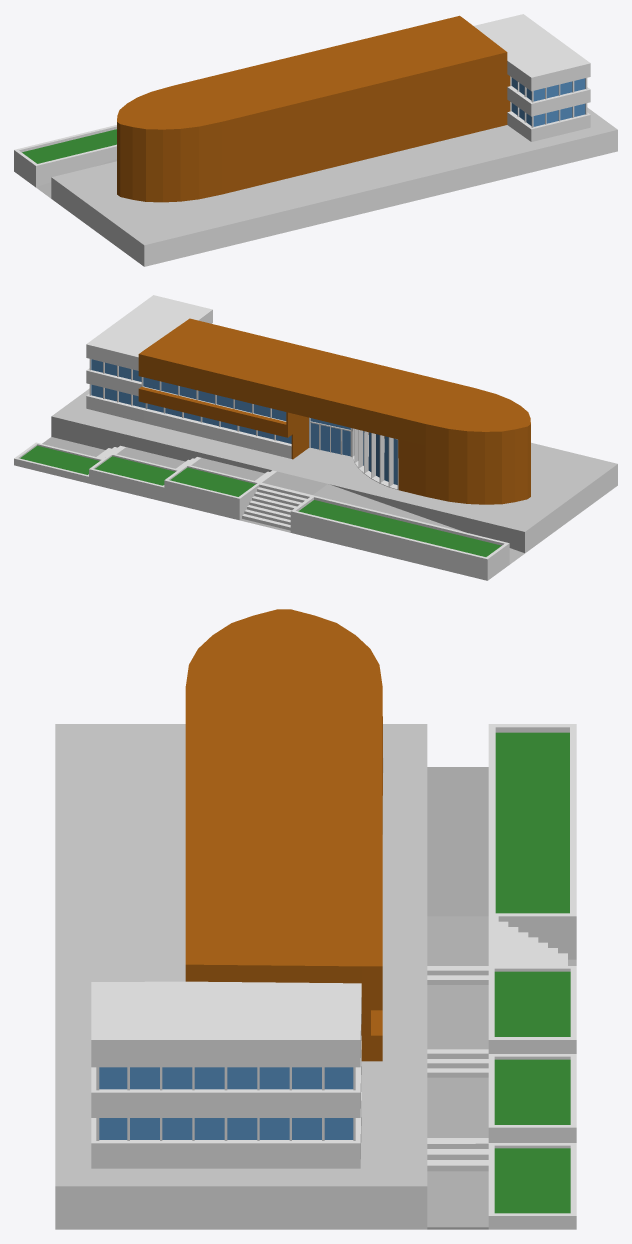
The model's file is townHall.fbx.
The picture shows the model from 3 angles, top to bottom: view 1: azimuth 30°, elevation 25°; view 2: azimuth 150°, elevation 25°; view 3: azimuth 270°, elevation 25°; orthographic projection. The views are drawn at different scales.
Parts seen in each view (by area): view 1: walls, garden, windows_block, garden.gras; view 2: walls, garden, garden.gras, windows_front_right, window_front, stairs, windows_block; view 3: walls, garden, garden.gras, windows_block, stairs, stairs_bottom, stairs_middle, stairs_top.
Part boxes in pixels (<box>): walls: <box>51,14,617,266</box>; garden: <box>14,125,116,198</box>; windows_block: <box>510,76,587,127</box>; garden.gras: <box>22,129,116,163</box>; walls: <box>51,295,617,553</box>; garden: <box>14,416,524,580</box>; garden.gras: <box>20,445,501,556</box>; windows_front_right: <box>141,377,291,444</box>; window_front: <box>352,428,398,489</box>; stairs: <box>242,483,312,530</box>; windows_block: <box>89,359,145,408</box>; walls: <box>55,609,427,1229</box>; garden: <box>427,724,576,1229</box>; garden.gras: <box>494,732,570,1213</box>; windows_block: <box>96,1067,355,1140</box>; stairs: <box>488,916,567,965</box>; stairs_bottom: <box>427,1138,488,1171</box>; stairs_middle: <box>427,1049,488,1077</box>; stairs_top: <box>427,966,488,984</box>.
Size of the model in its own units: 18757 by 3572 by 8942.
